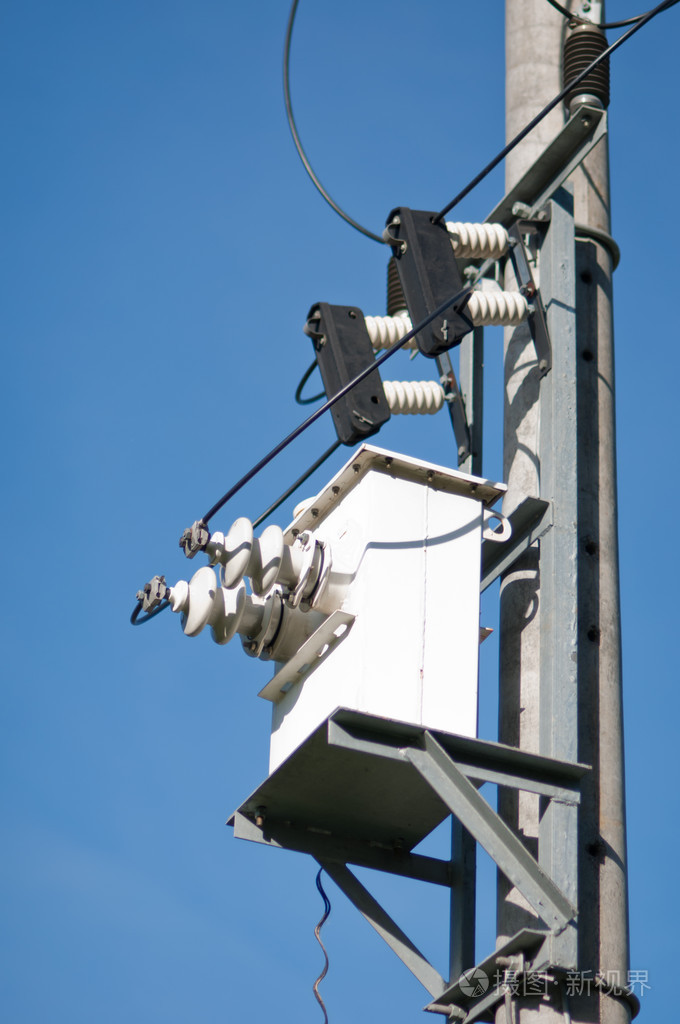insulator: (216, 517, 285, 598), (183, 570, 246, 647)
